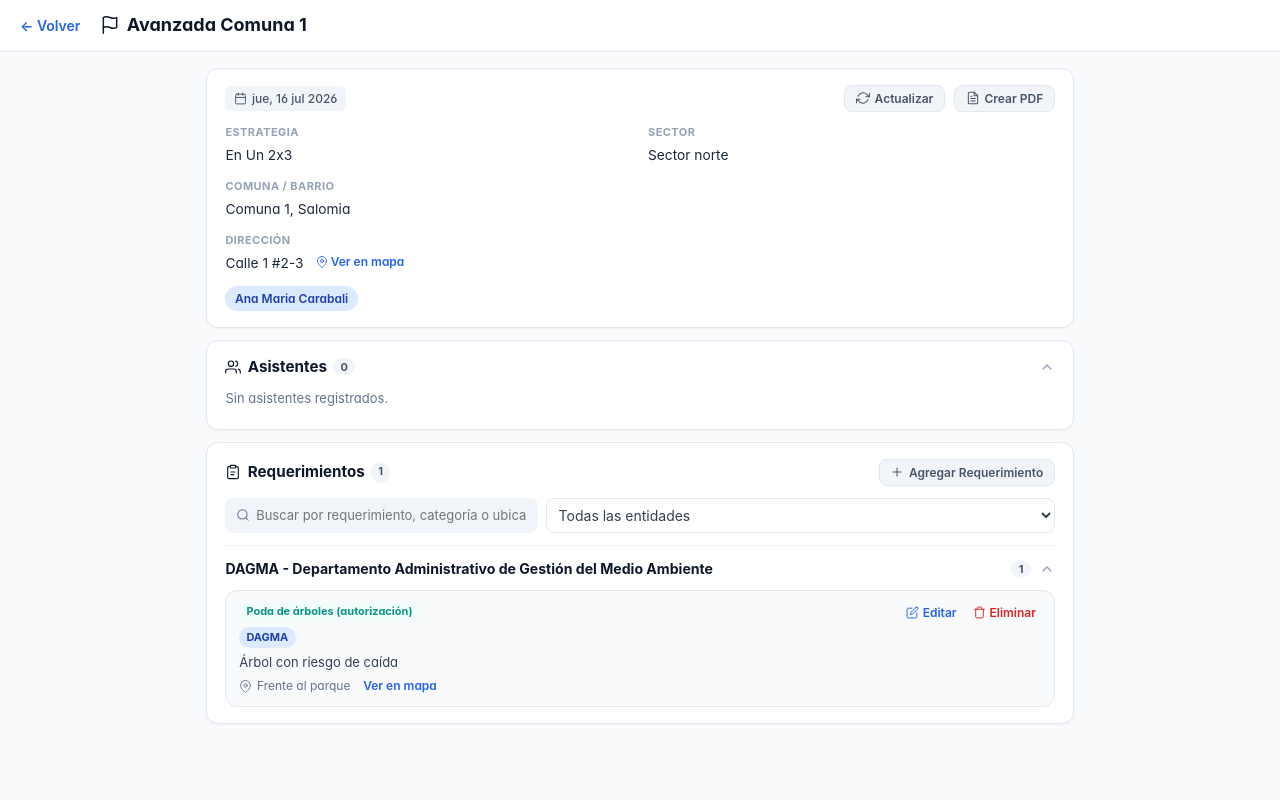
Test: DetalleAvanzada › eliminar requerimiento › shows an inline error when the delete fails
Step 1. Click the button with aria-label "eliminar requerimiento" → x=1004, y=612, box [968, 602, 1041, 622]
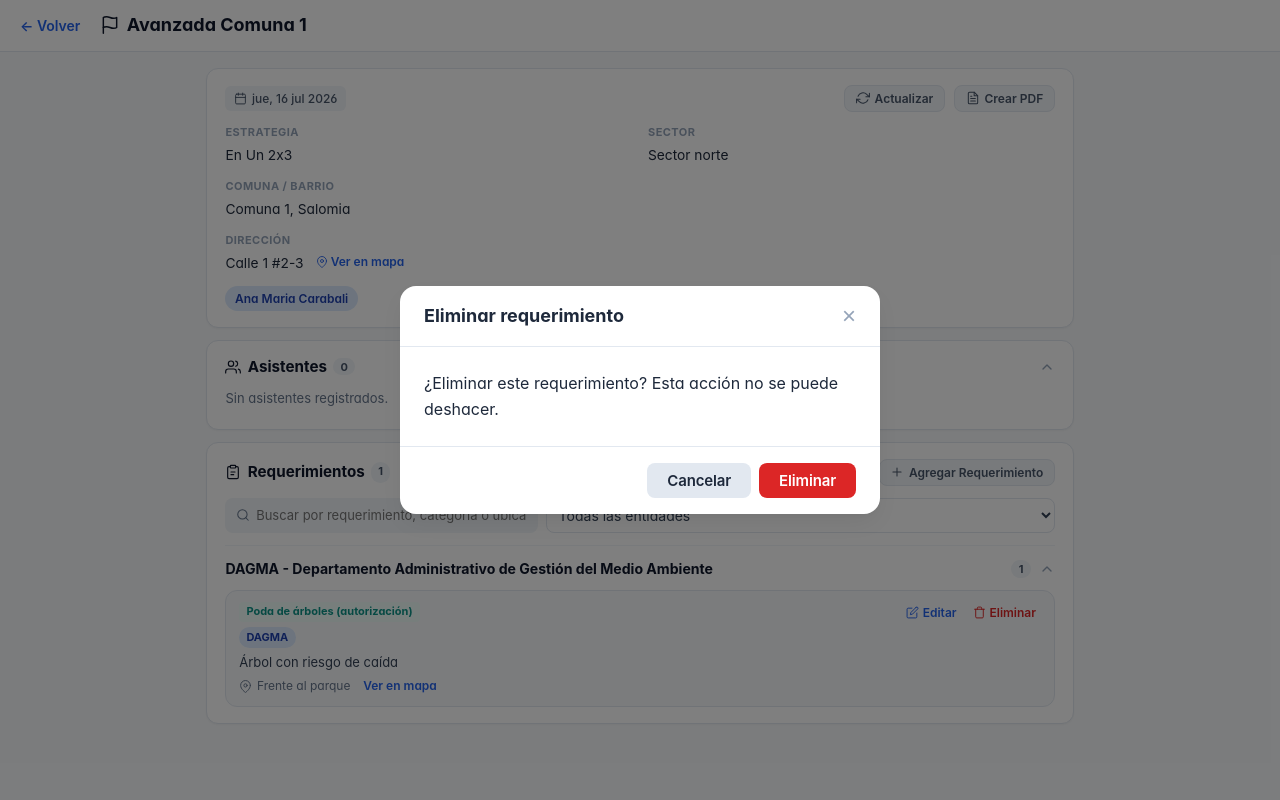
Step 2. Click the button "Eliminar" → x=808, y=481, box [759, 464, 856, 498]
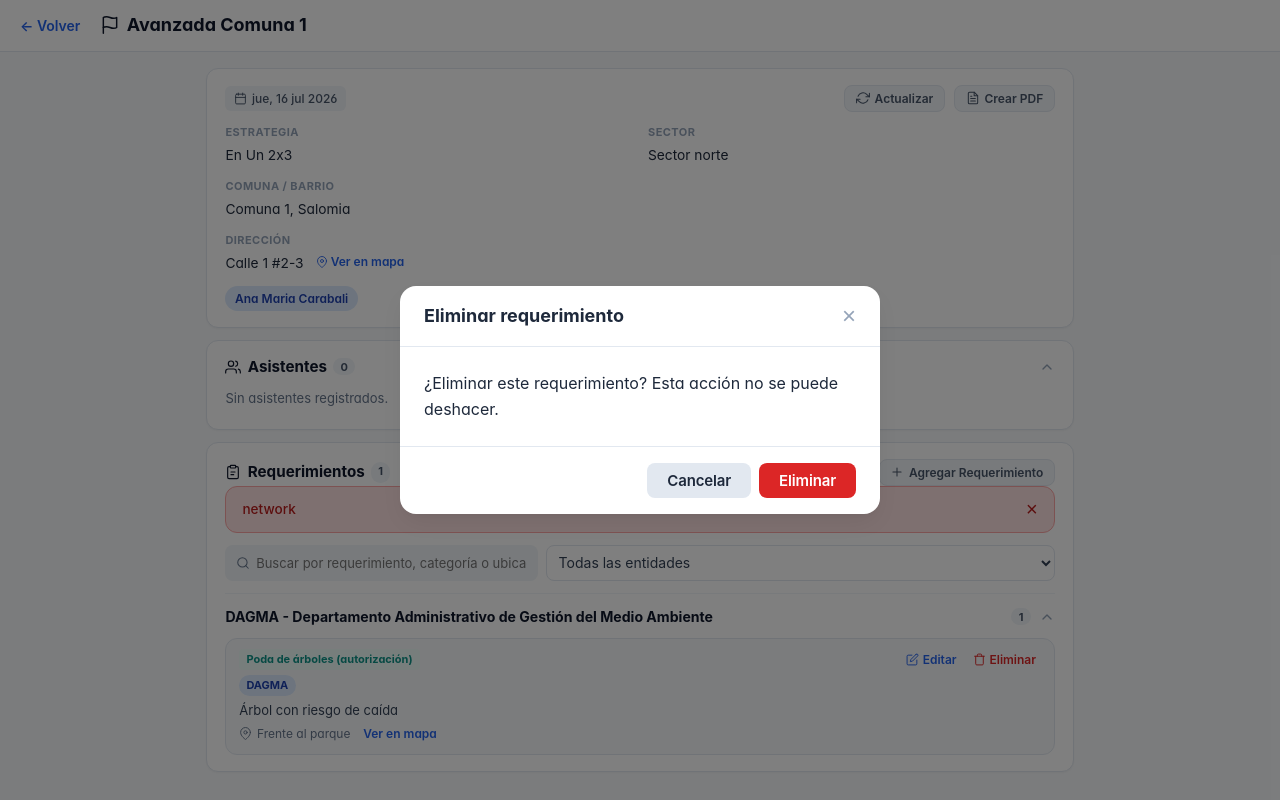
Result: the text "network" is shown at [242, 500, 296, 516]
